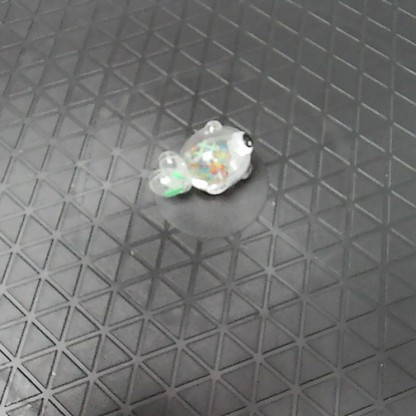whitefish: (150, 118, 256, 199)
